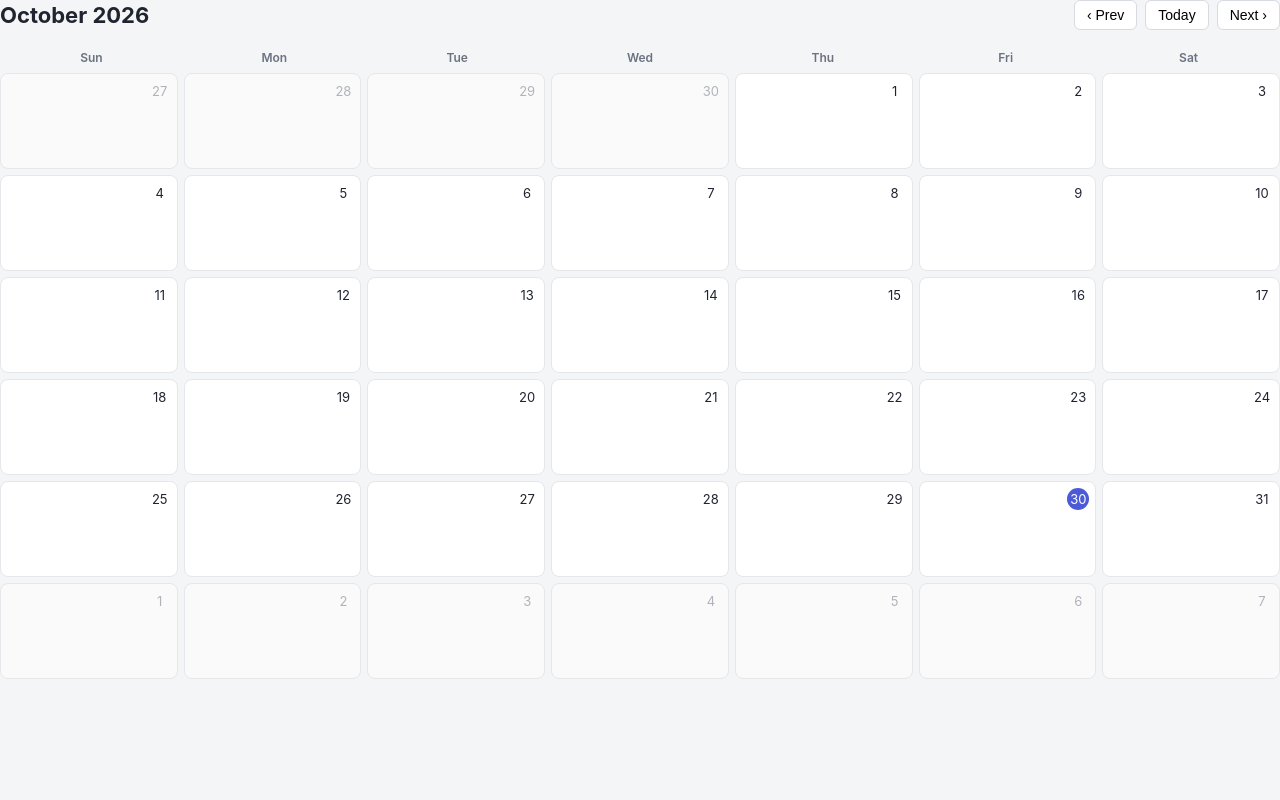
Test case: clicking an existing post opens it pre-filled for editing, and saving updates it in place
Click the 2nd button "30": (1007, 529) [919, 481, 1096, 577]
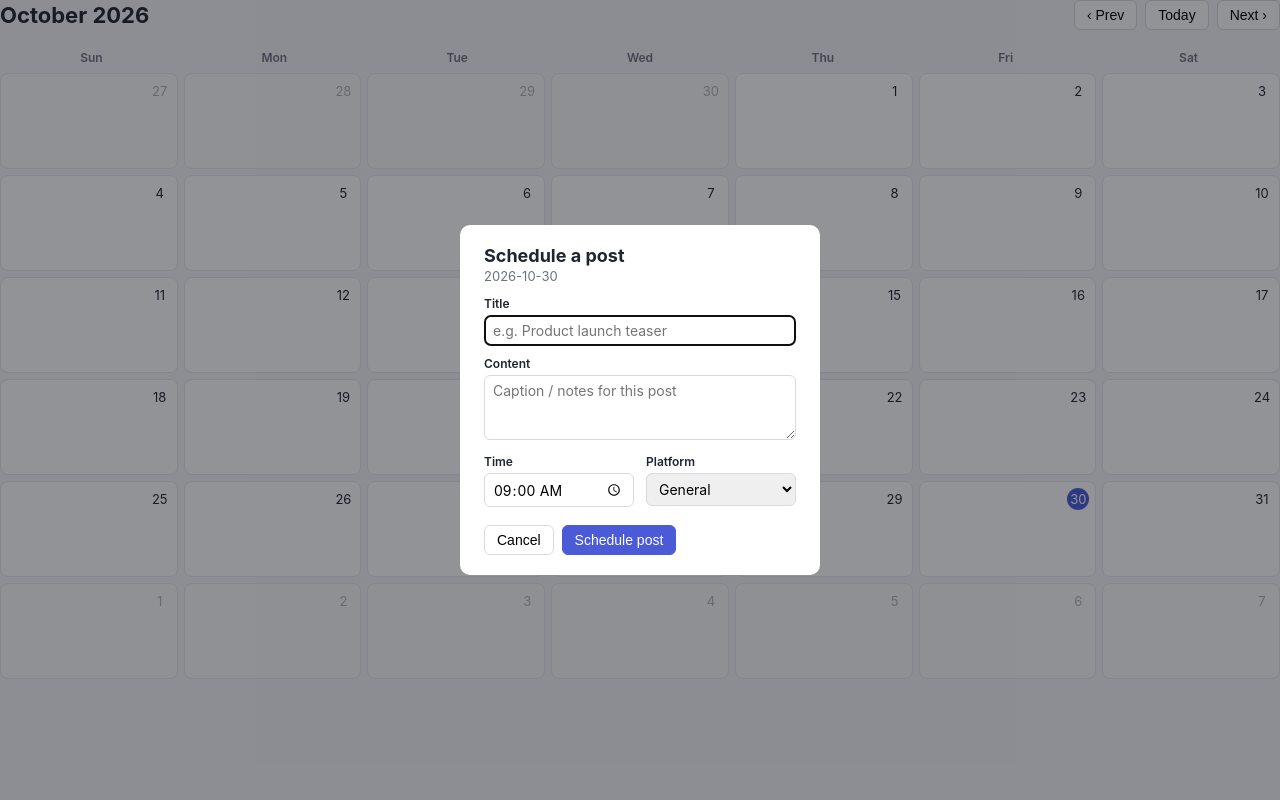
In the field labelled "Title": (640, 330) [484, 315, 796, 346], type "Draft title"
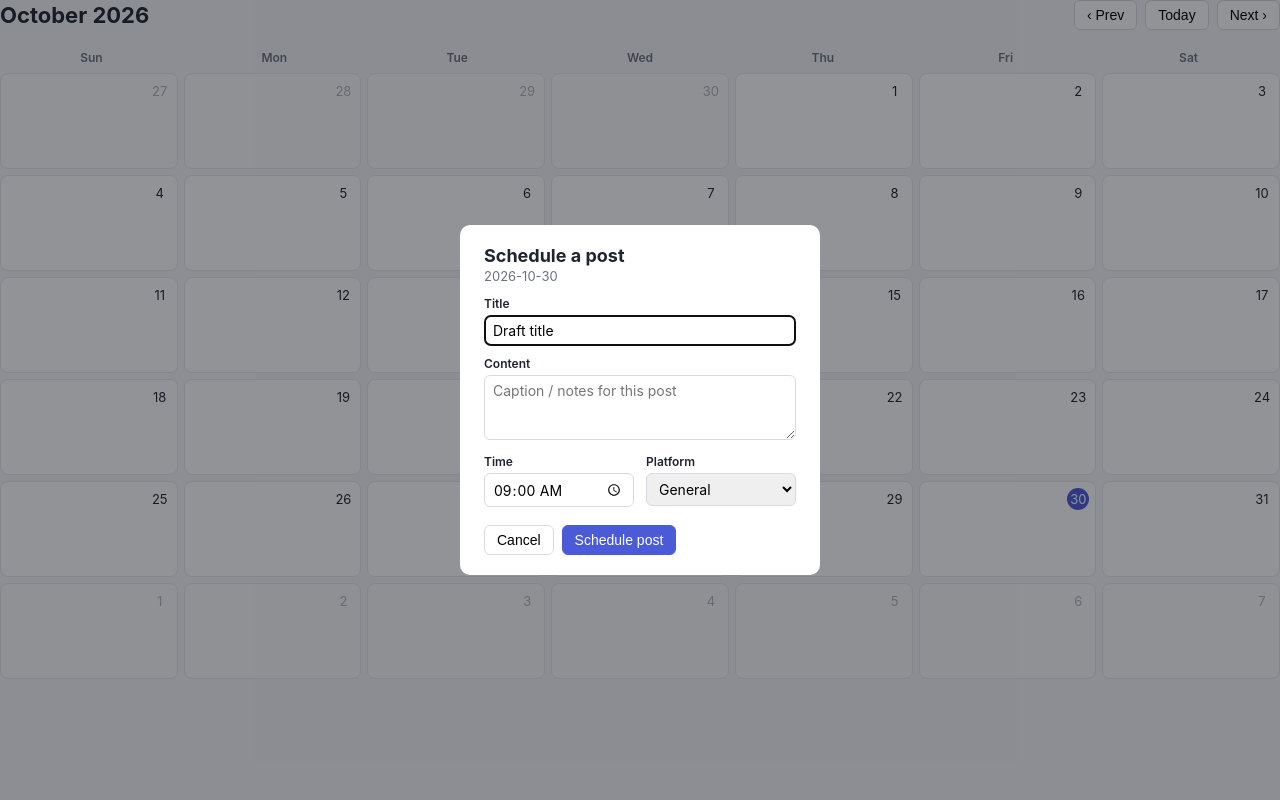
Click the button "Schedule post": (619, 540) [562, 525, 676, 555]
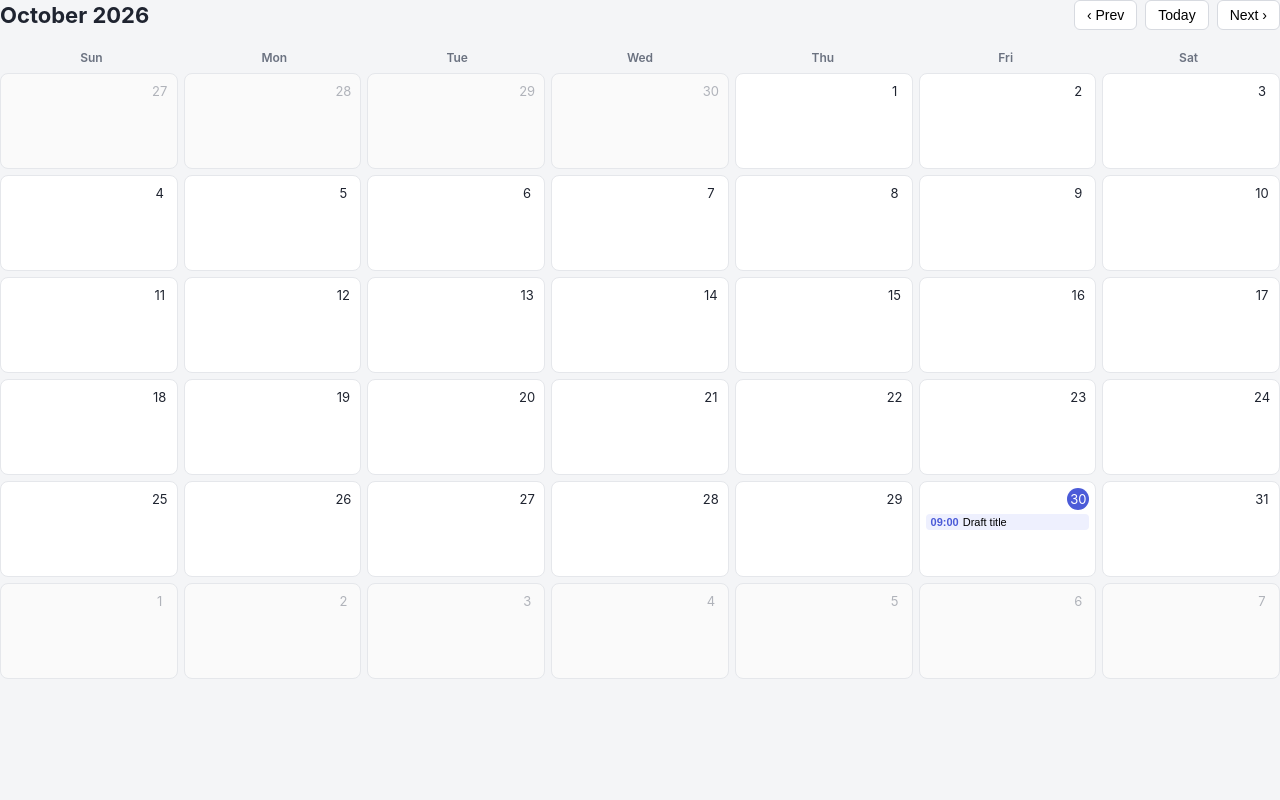
Click the text "Draft title": (985, 522) [963, 516, 1007, 528]
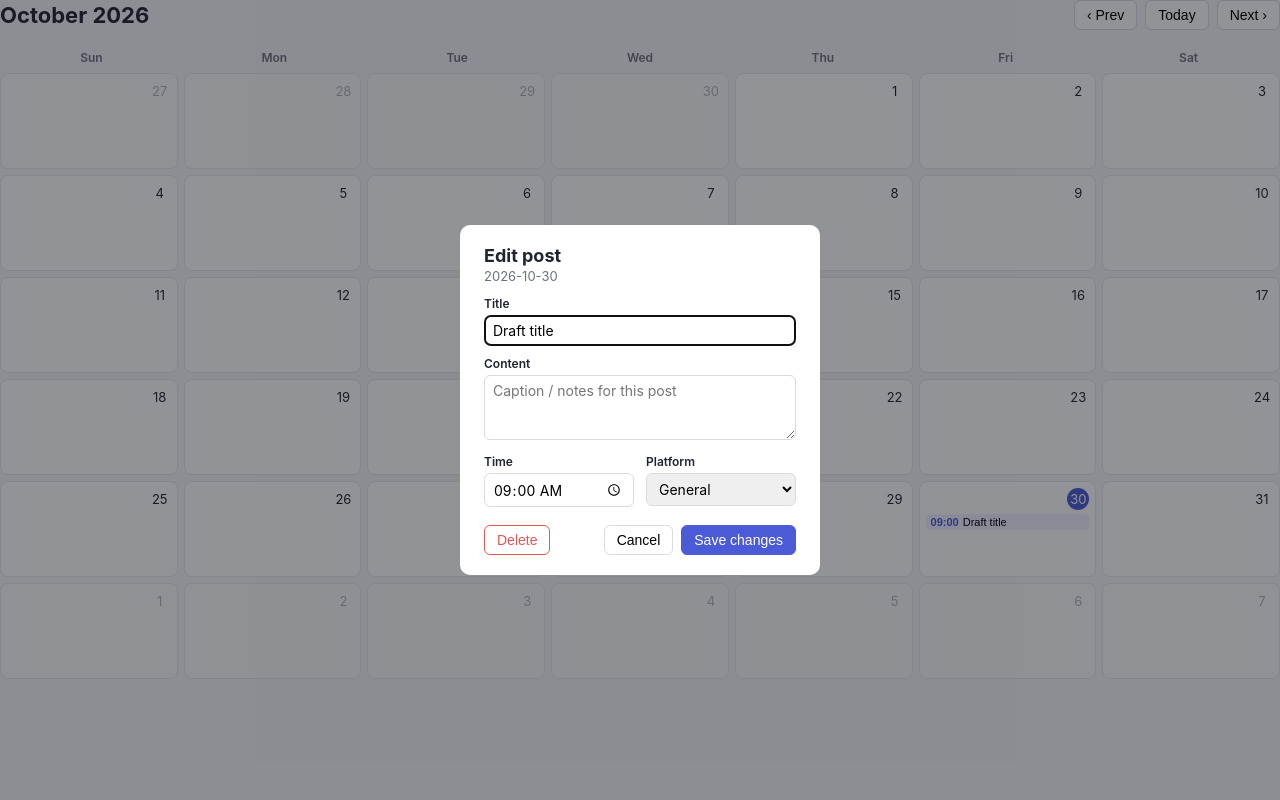
Check: the field labelled "Title" holds "Draft title"
Replace the text in the field labelled "Title" with "Final title": (640, 330) [484, 315, 796, 346]
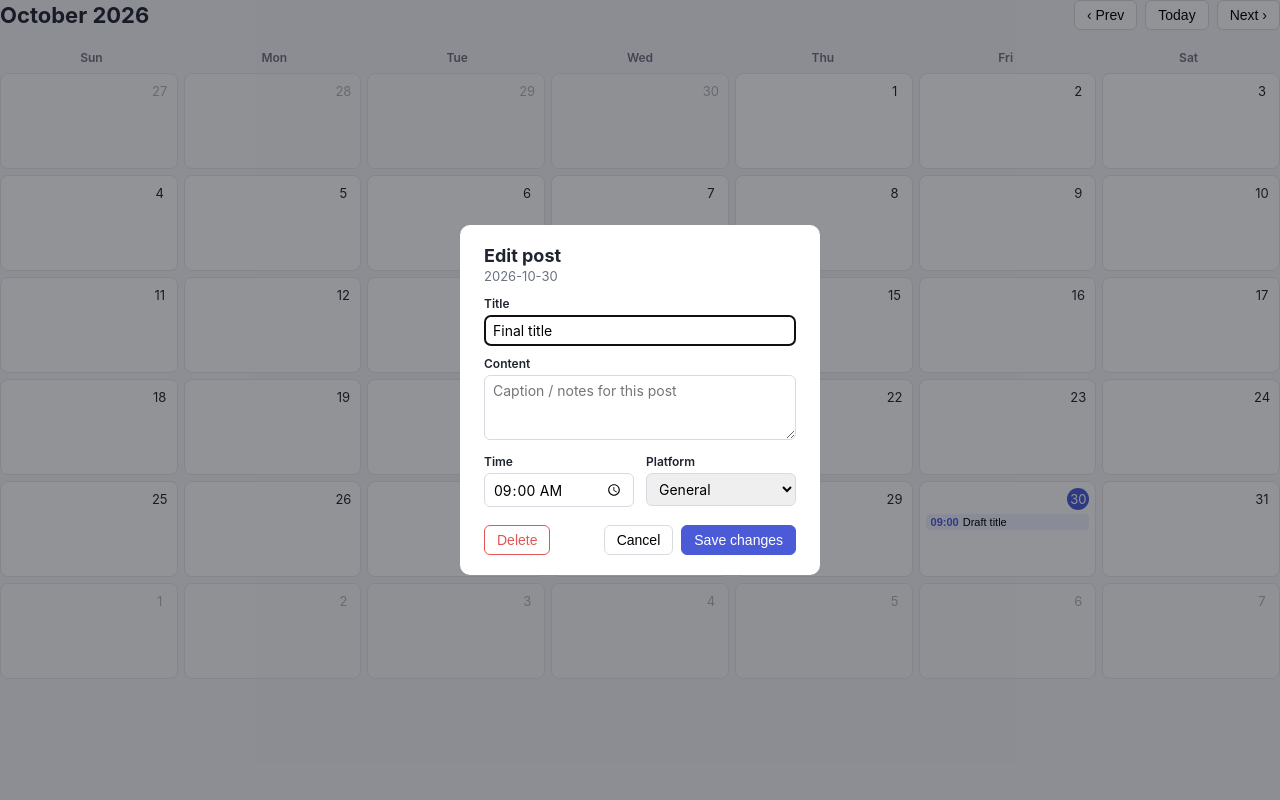
Click the button "Save changes": (739, 540) [681, 525, 796, 555]
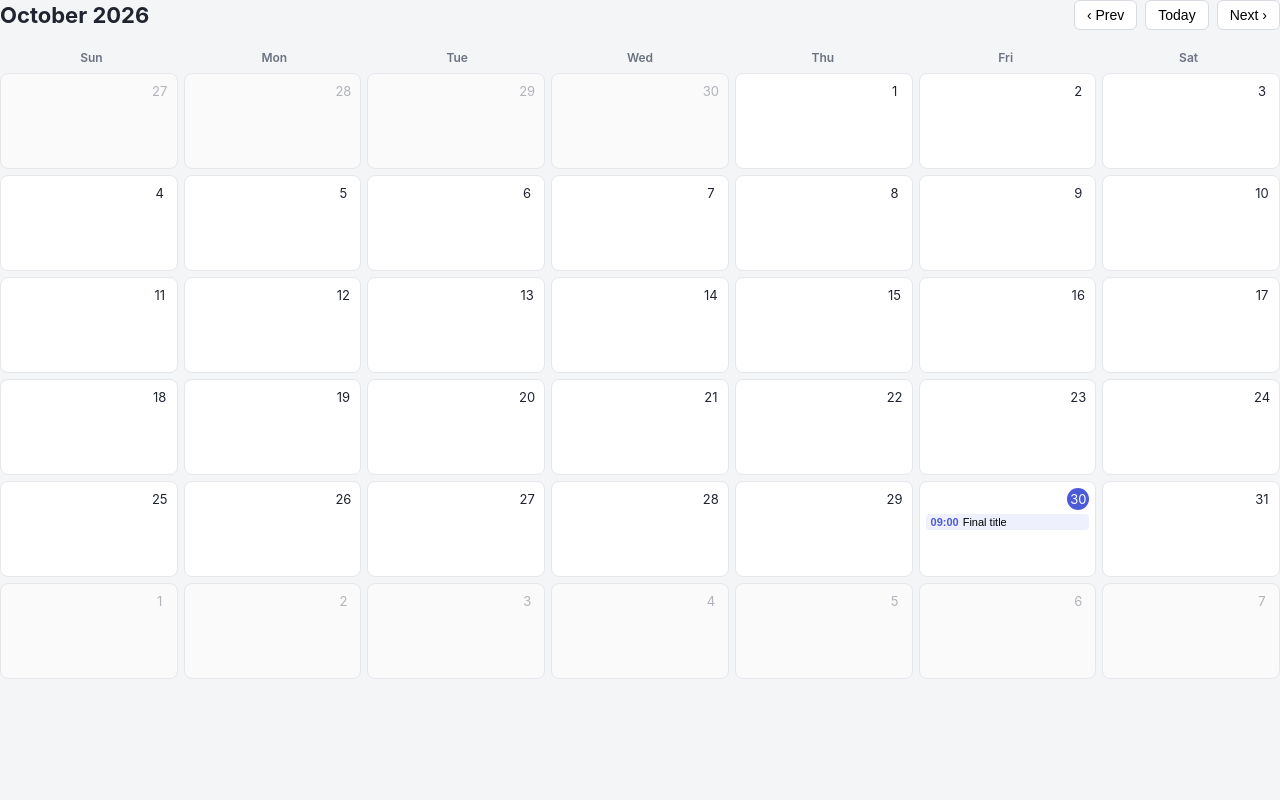
Check: the text "Final title" is shown, box [963, 516, 1007, 528]
Check: the button "Draft title" is gone
